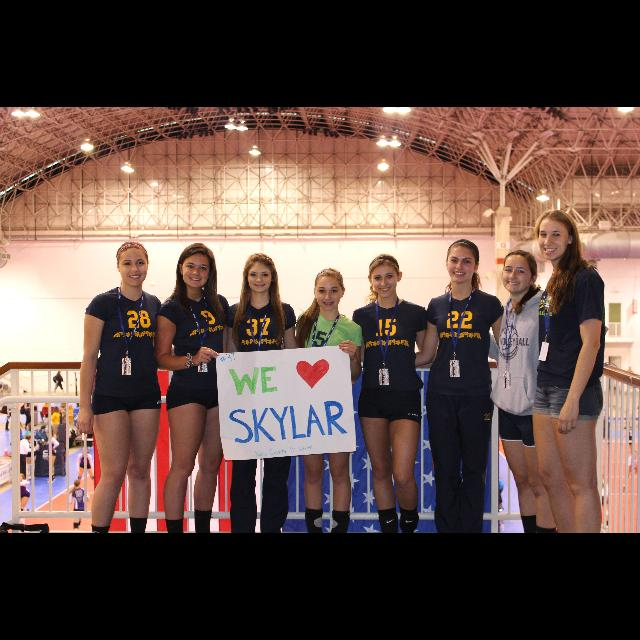head: (536, 210, 574, 260), (500, 250, 538, 294), (116, 242, 150, 288), (178, 244, 212, 290), (242, 252, 278, 294), (368, 255, 402, 299), (446, 240, 480, 284), (313, 270, 345, 312), (53, 371, 67, 397), (18, 474, 24, 482), (74, 480, 80, 488), (47, 432, 53, 440), (29, 434, 35, 441), (82, 448, 88, 454), (25, 435, 31, 441), (54, 408, 58, 412), (61, 406, 65, 410), (47, 403, 51, 407), (26, 401, 30, 404)
person: (8, 472, 32, 518), (18, 435, 40, 485), (74, 446, 98, 490), (46, 431, 66, 479), (26, 432, 40, 482), (16, 474, 32, 514), (40, 402, 56, 436), (50, 406, 62, 444), (20, 400, 32, 432), (53, 371, 67, 397), (59, 406, 67, 436)
